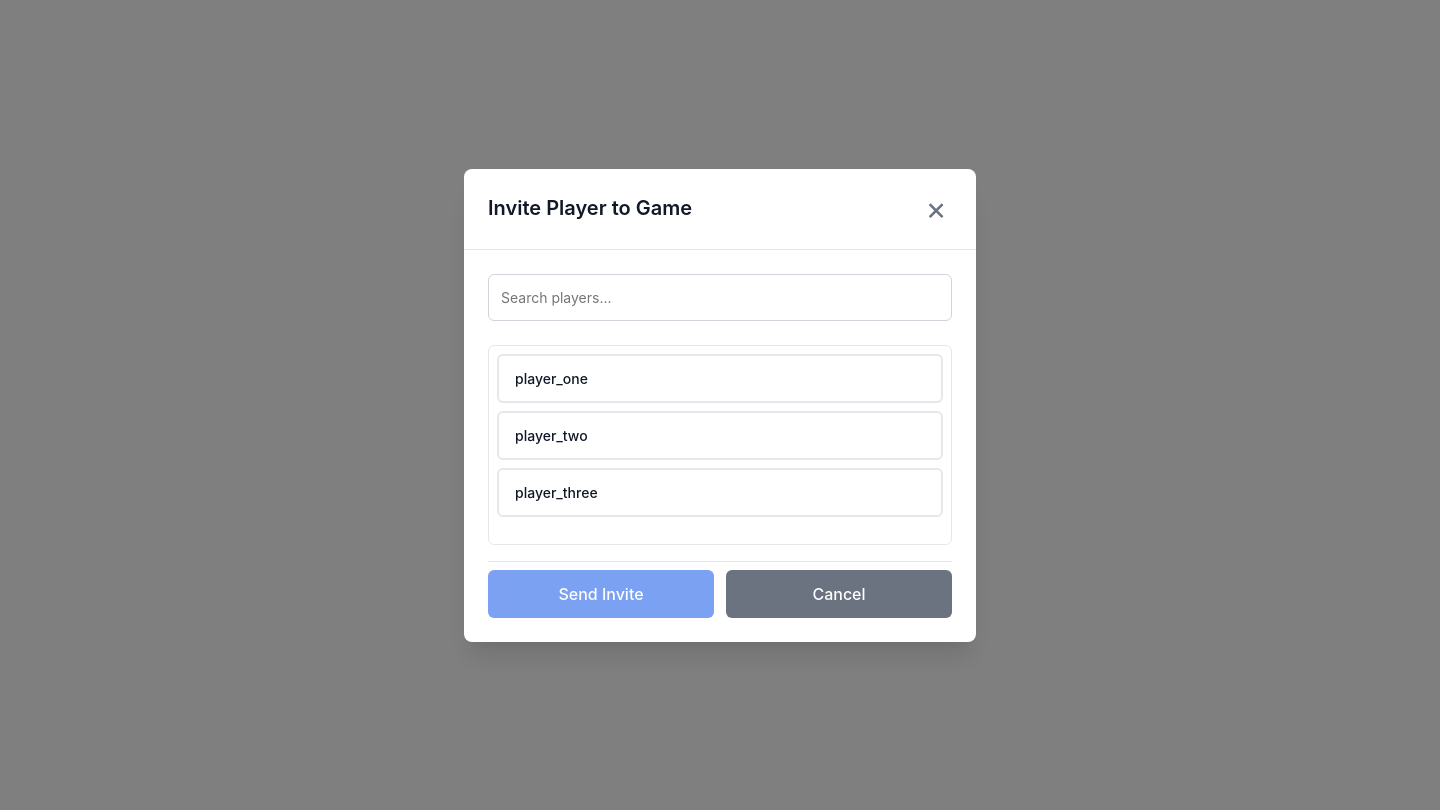
InviteModal › Player Selection › should enable invite button when player selected
This screenshot has width=1440, height=810.
Click the button "player_one" at (551, 378), box [497, 354, 943, 402]
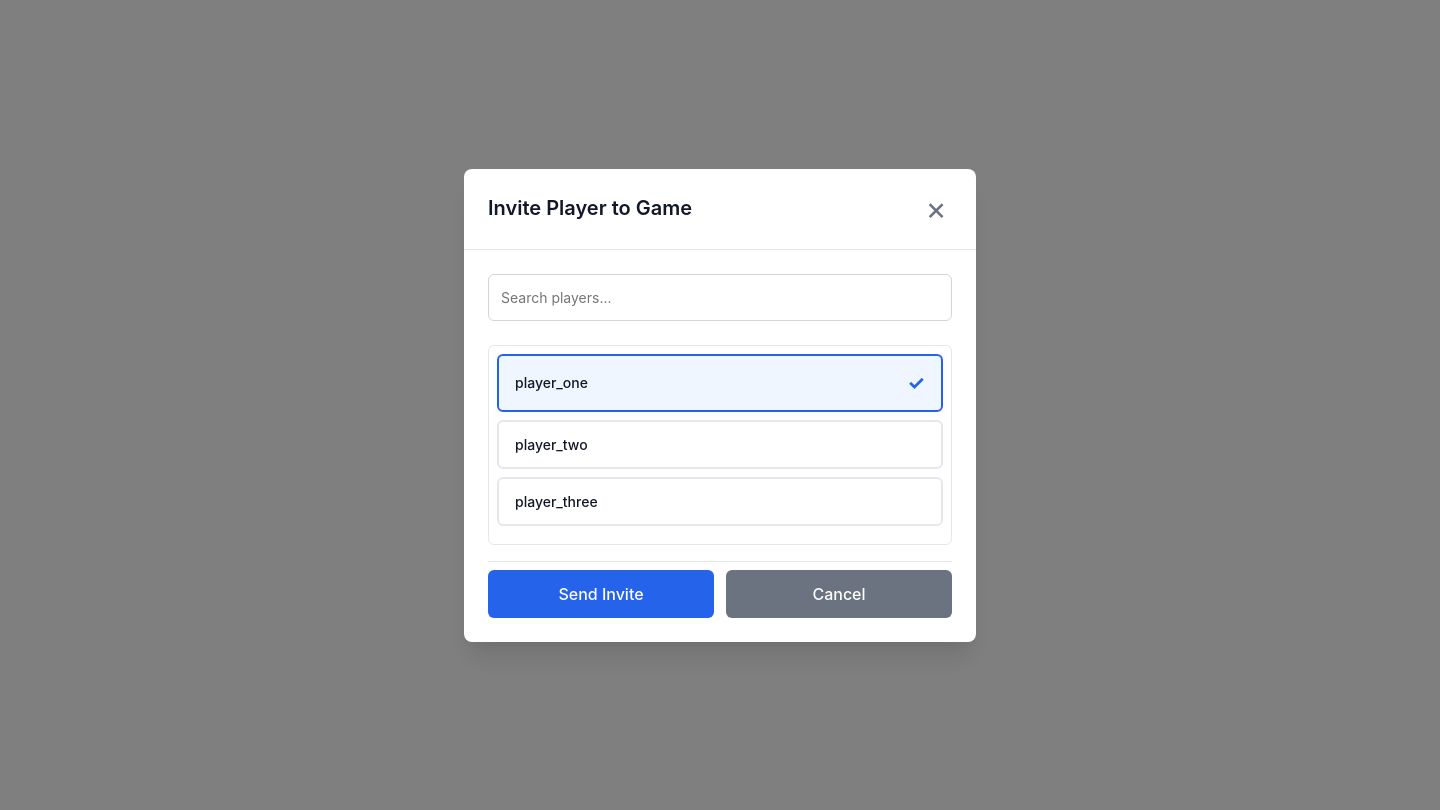
Check: the button "Send Invite" is enabled, box [488, 570, 714, 618]
